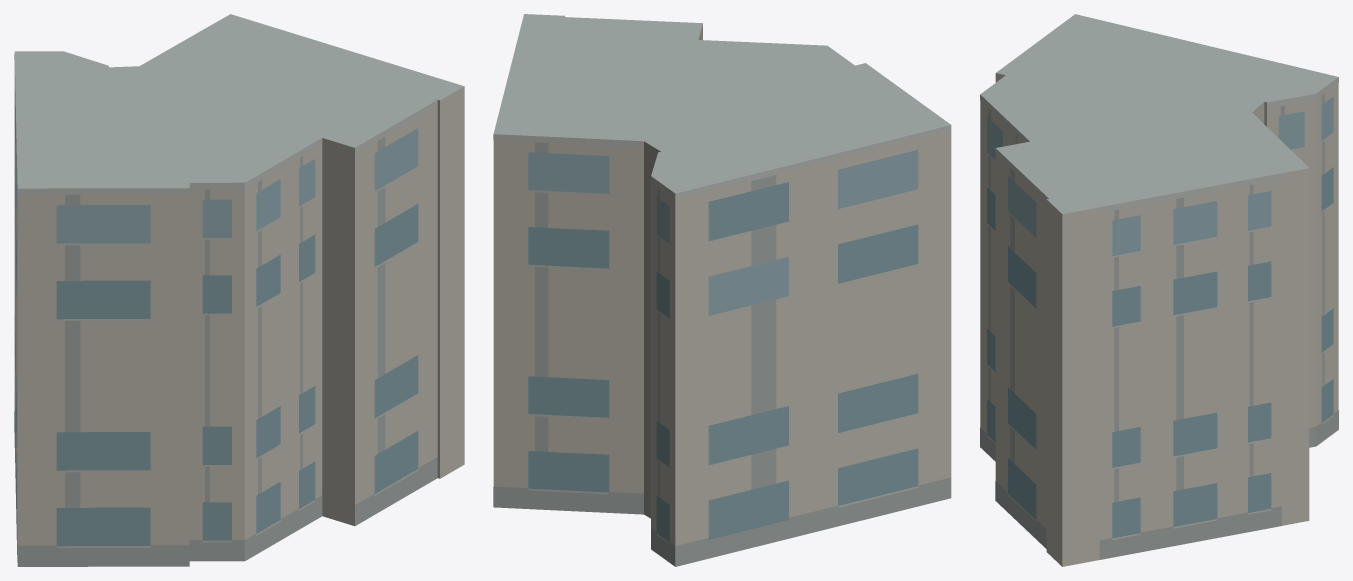
Rendered from survey-upis-32907235.glb.
The picture shows the model from 3 angles, left to right: view 1: azimuth 30°, elevation 25°; view 2: azimuth 150°, elevation 25°; view 3: azimuth 270°, elevation 25°; orthographic projection. The views are drawn at different scales.
Visible parts, largest first — view 1: survey-upis-32907235.tmp; view 2: survey-upis-32907235.tmp; view 3: survey-upis-32907235.tmp.
Boxes of the visible parts, x1=… form: survey-upis-32907235.tmp: x1=14, y1=14, x2=464, y2=566; survey-upis-32907235.tmp: x1=493, y1=14, x2=951, y2=566; survey-upis-32907235.tmp: x1=980, y1=14, x2=1338, y2=566.
Bounding box in the file's own units: 17.53 × 14.4 × 13.28.
